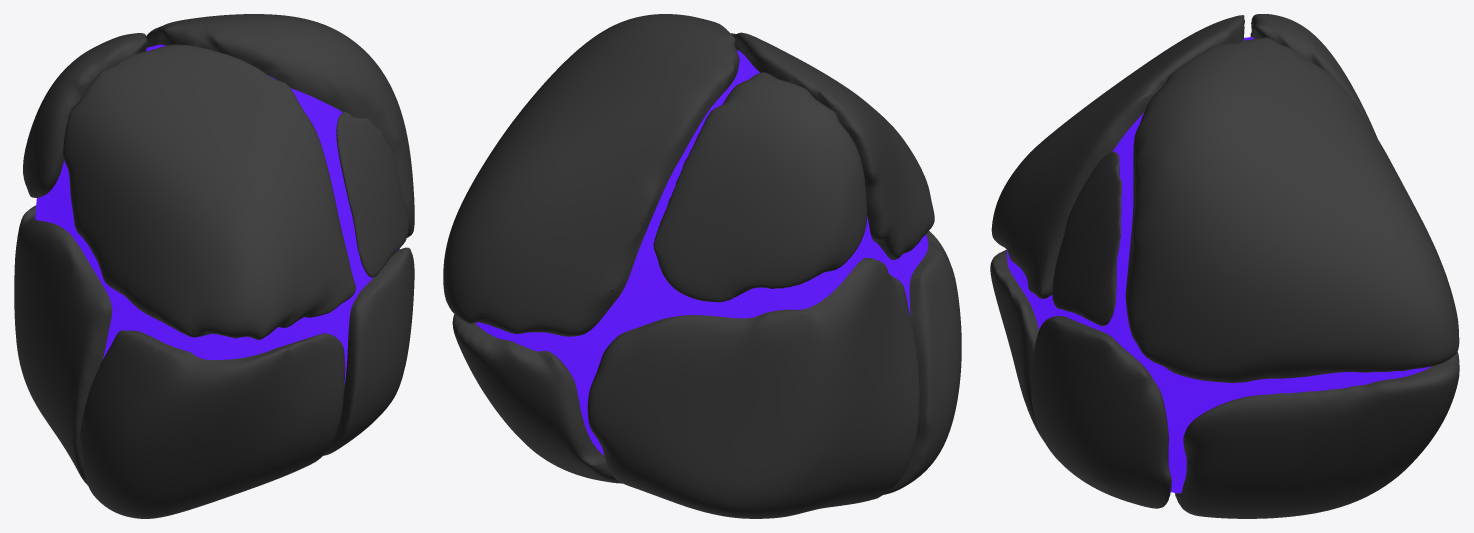
File: glowy-rock.glb
3 renders of one model, left to right at view 1: azimuth 30°, elevation 25°; view 2: azimuth 150°, elevation 25°; view 3: azimuth 270°, elevation 25°, orthographic. The views are drawn at different scales.
Visible parts, largest first — view 1: Rock Decimate; view 2: Rock Decimate; view 3: Rock Decimate.
Part boxes in pixels (x1=…): Rock Decimate: x1=14, y1=14, x2=414, y2=518; Rock Decimate: x1=443, y1=14, x2=961, y2=518; Rock Decimate: x1=990, y1=14, x2=1459, y2=518.
Size of the model in its own units: 1.71 by 1.98 by 1.84.
